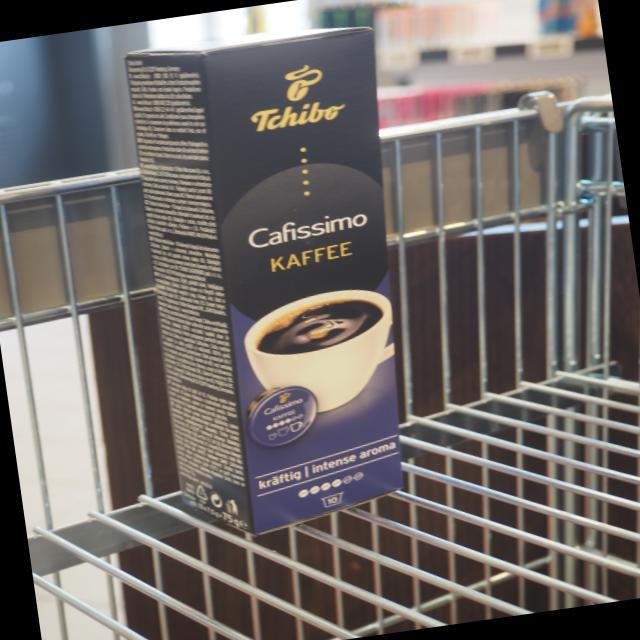Simo Kaffee Kraft: (120, 19, 414, 562)
